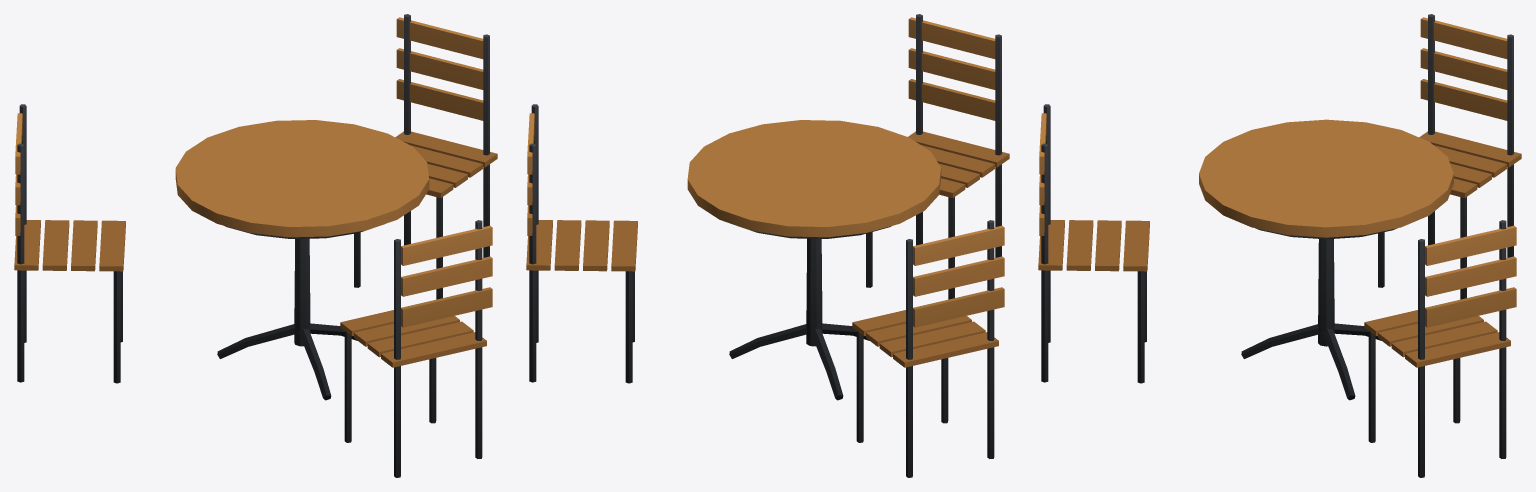
File: Cafe_Table.fbx
3 views of the same model, side by side, from view 1: azimuth 30°, elevation 25°; view 2: azimuth 150°, elevation 25°; view 3: azimuth 270°, elevation 25° (orthographic).
Parts seen in each view (by area): view 1: Cafe_Table_LOD0; view 2: Cafe_Table_LOD0; view 3: Cafe_Table_LOD0.
Boxes of the visible parts, x1,y1,x2,y2 form: Cafe_Table_LOD0: (14,14,497,477); Cafe_Table_LOD0: (526,14,1009,477); Cafe_Table_LOD0: (1038,14,1521,477).
Size of what is drawn, in the model's own units: 1.95 by 0.933 by 1.71.
Materials: 1 (1 with a texture image).
